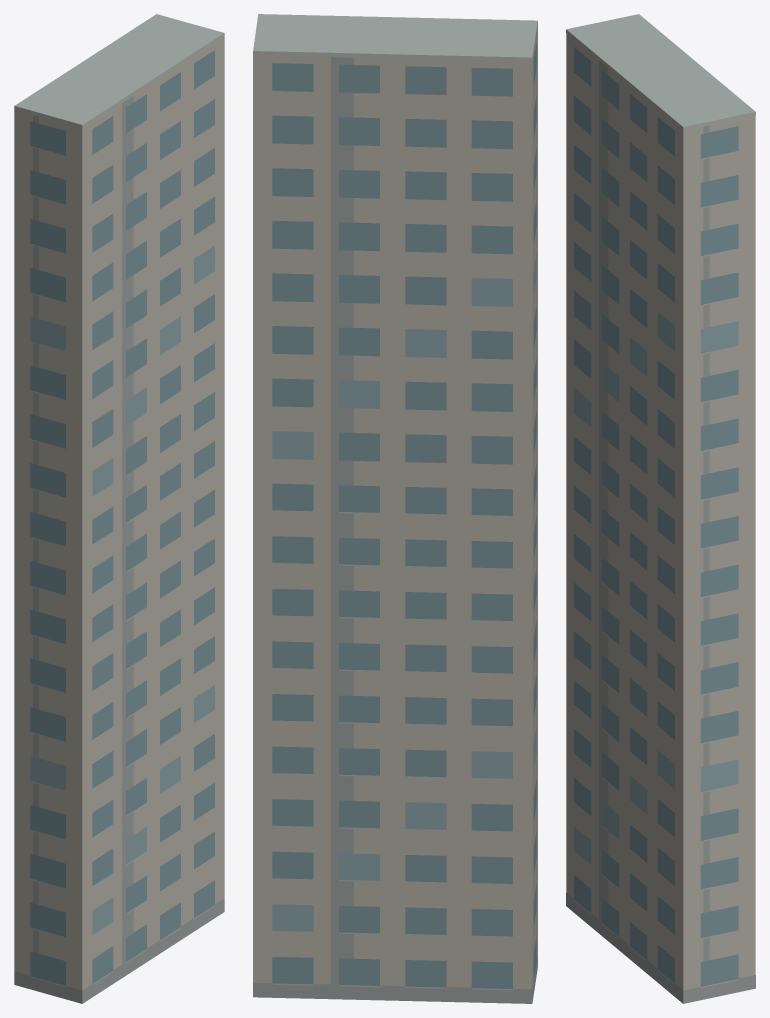
Rendered from survey-upis-32700348.glb.
The picture shows the model from 3 angles, left to right: view 1: azimuth 30°, elevation 25°; view 2: azimuth 150°, elevation 25°; view 3: azimuth 270°, elevation 25°; orthographic projection. The views are drawn at different scales.
Visible parts, largest first — view 1: survey-upis-32700348.tmp; view 2: survey-upis-32700348.tmp; view 3: survey-upis-32700348.tmp.
Boxes of the visible parts, <box> form: survey-upis-32700348.tmp: <box>14,14,224,1003</box>; survey-upis-32700348.tmp: <box>253,14,537,1003</box>; survey-upis-32700348.tmp: <box>566,14,755,1003</box>.
Bounding box in the file's own units: 15.2 × 54.9 × 10.77.
